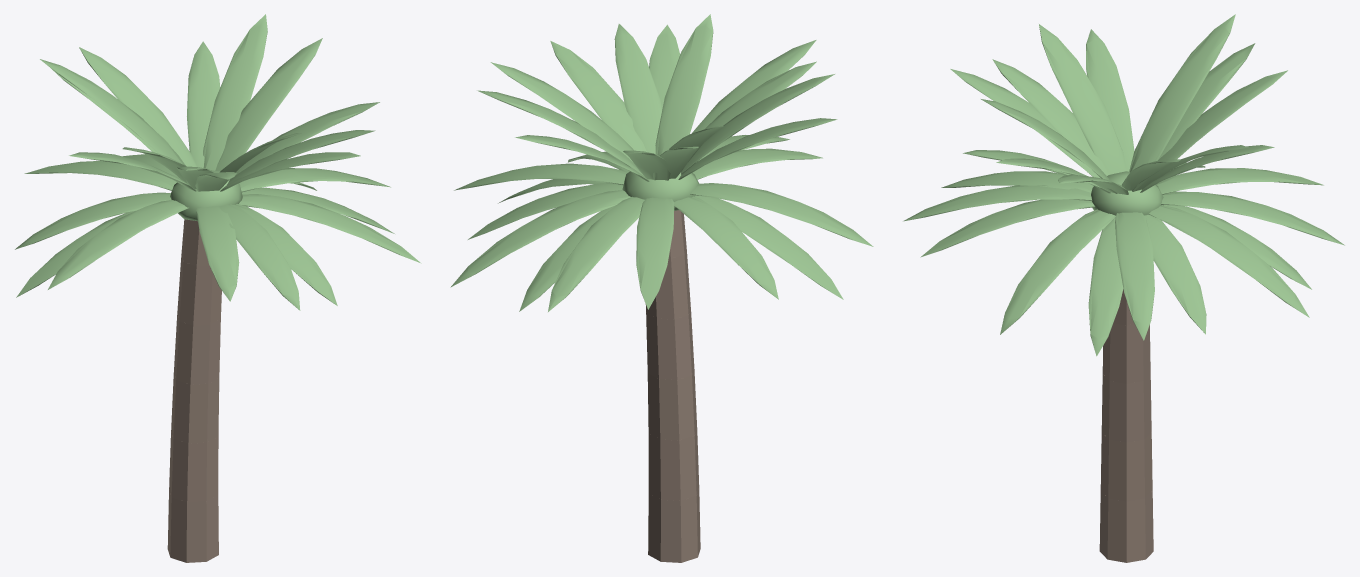
Rendered from tree-palm-date-a.glb.
3 views of the same model, side by side, from view 1: azimuth 30°, elevation 25°; view 2: azimuth 150°, elevation 25°; view 3: azimuth 270°, elevation 25° (orthographic). The views are drawn at different scales.
Visible parts, largest first — view 1: tree-palm-date-a; view 2: tree-palm-date-a; view 3: tree-palm-date-a.
Part boxes in pixels (x1=…): tree-palm-date-a: x1=15, y1=14, x2=421, y2=562; tree-palm-date-a: x1=450, y1=14, x2=873, y2=562; tree-palm-date-a: x1=903, y1=14, x2=1344, y2=562.
Size of the model in its own units: 0.8277 by 1 by 0.824.
